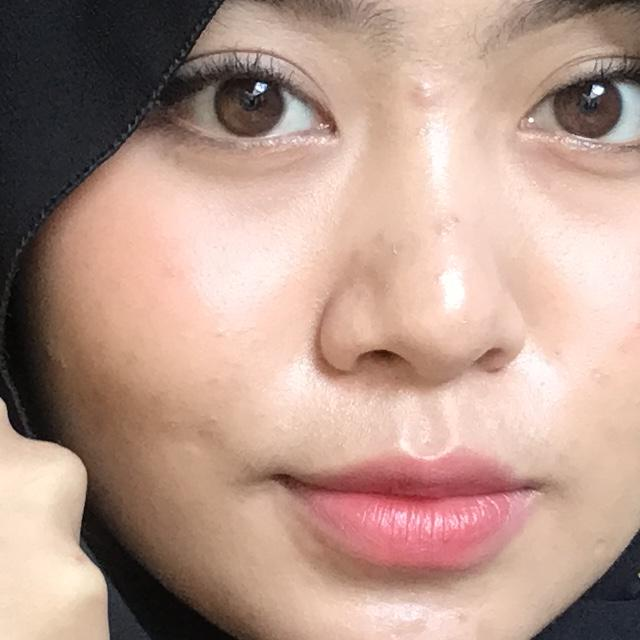telpon: (0, 106, 470, 640)
